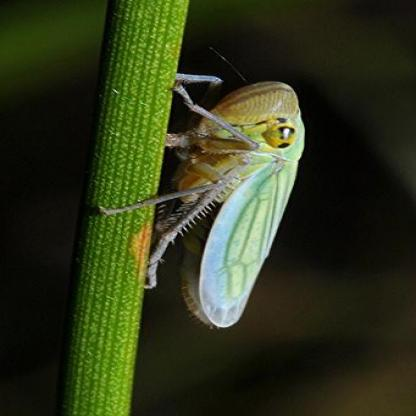Green-Leafhopper: (117, 60, 310, 350)
